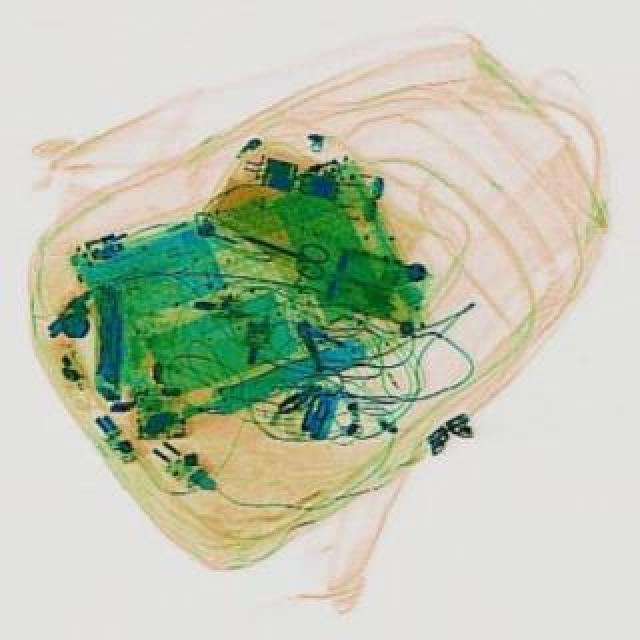pliers: (228, 216, 332, 280)
